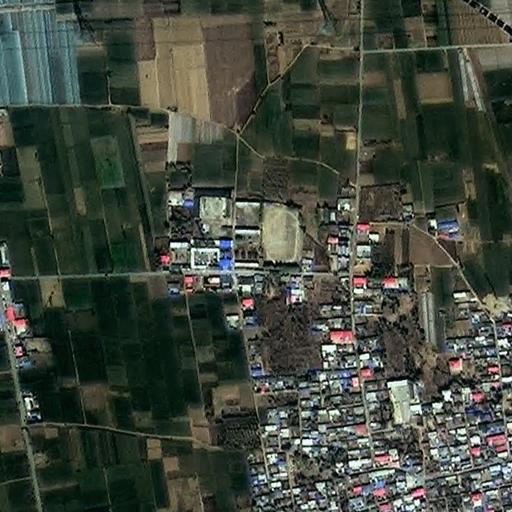school: (228, 198, 300, 271)
